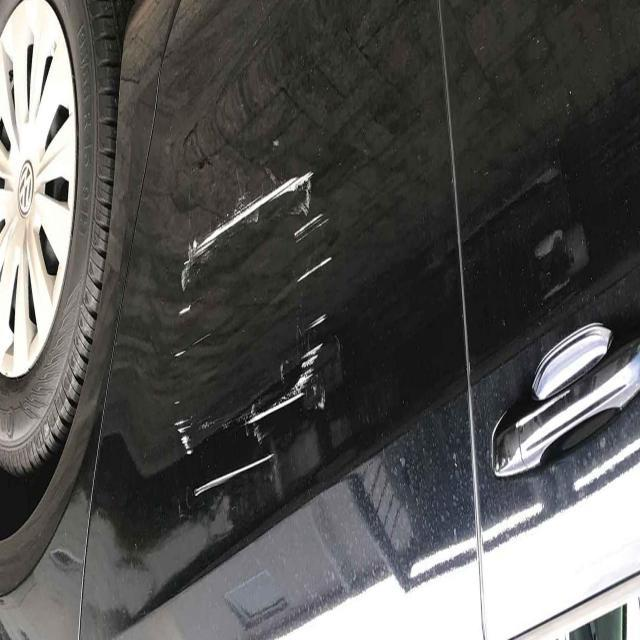scratch: (168, 156, 334, 332), (236, 337, 337, 438), (190, 446, 278, 513), (163, 390, 200, 468)
